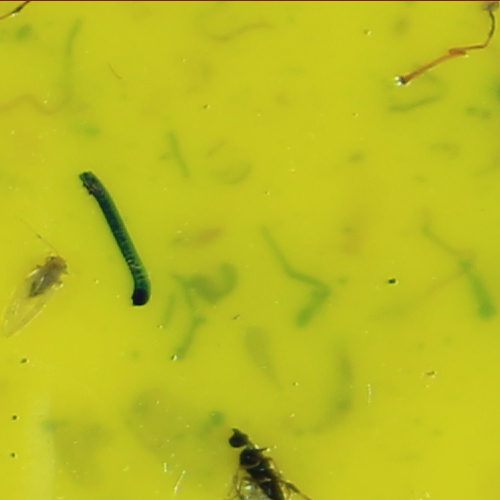psylla: (21, 251, 72, 302)
